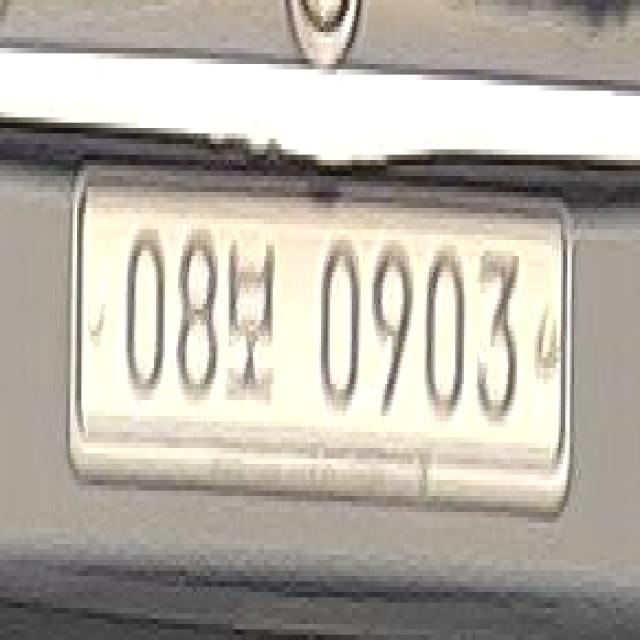illegal_plate: (72, 158, 568, 523)
